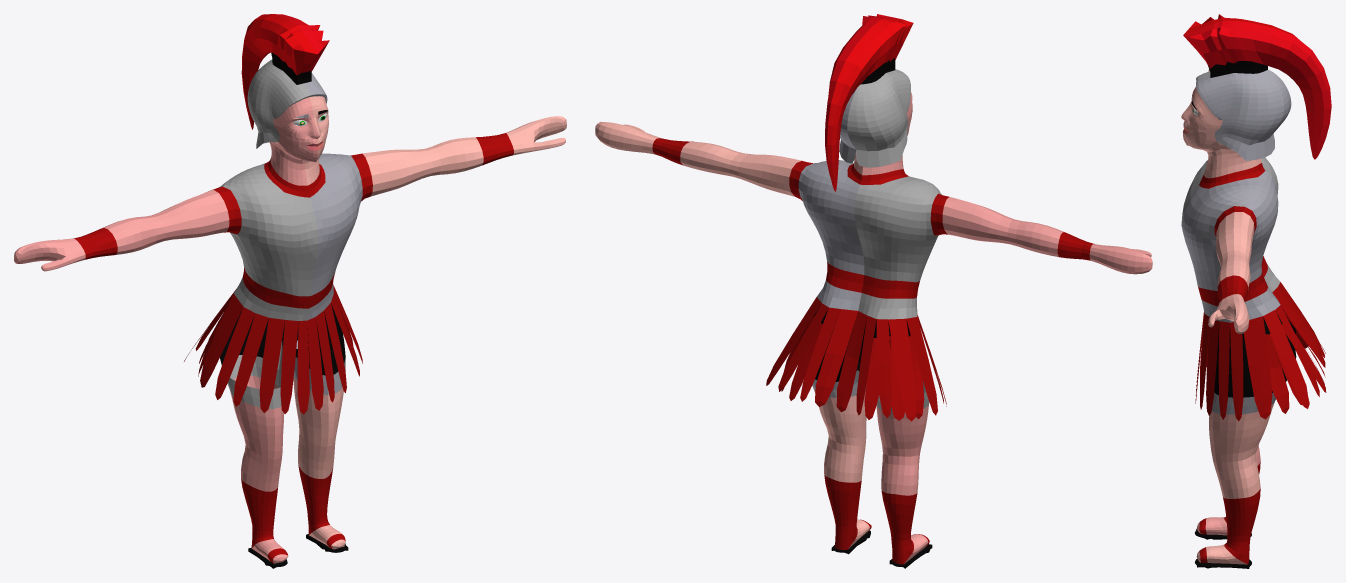
The model's file is TEZEU-fara arma.fbx.
The picture shows the model from 3 angles, left to right: view 1: azimuth 30°, elevation 25°; view 2: azimuth 150°, elevation 25°; view 3: azimuth 270°, elevation 25°; orthographic projection.
Parts seen in each view (by area): view 1: Plane.001; view 2: Plane.001; view 3: Plane.001.
Boxes of the visible parts, x1,y1,x2,y2 form: Plane.001: (14, 14, 566, 568); Plane.001: (595, 14, 1152, 568); Plane.001: (1181, 14, 1331, 568).
Bounding box in the file's own units: 335 × 305 × 78.51.
